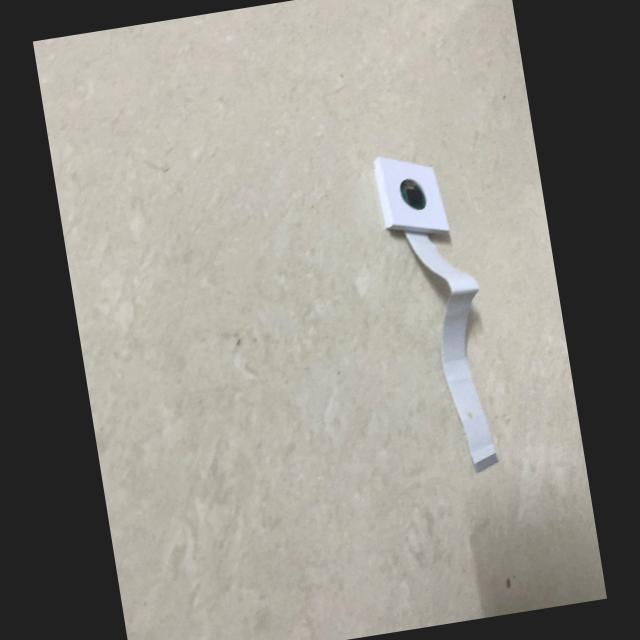RASPBERY PI CAM ENCLOSURE: (372, 148, 450, 245)
